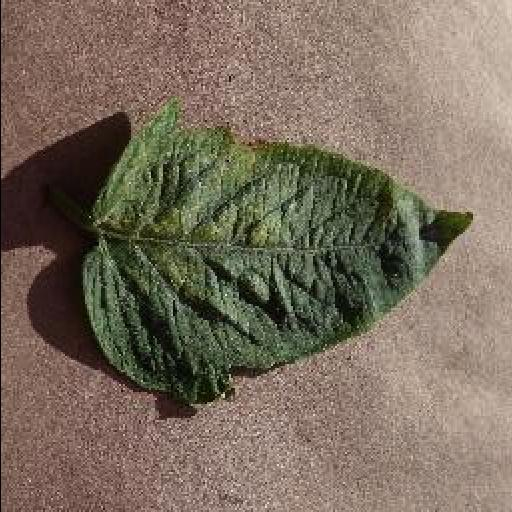disease_tomato: (78, 103, 478, 404)
